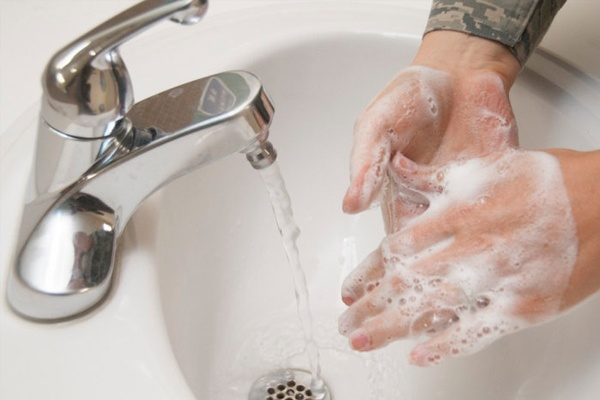washing hand: (151, 9, 595, 396)
